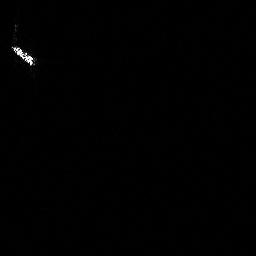ship: (9, 44, 39, 67)
